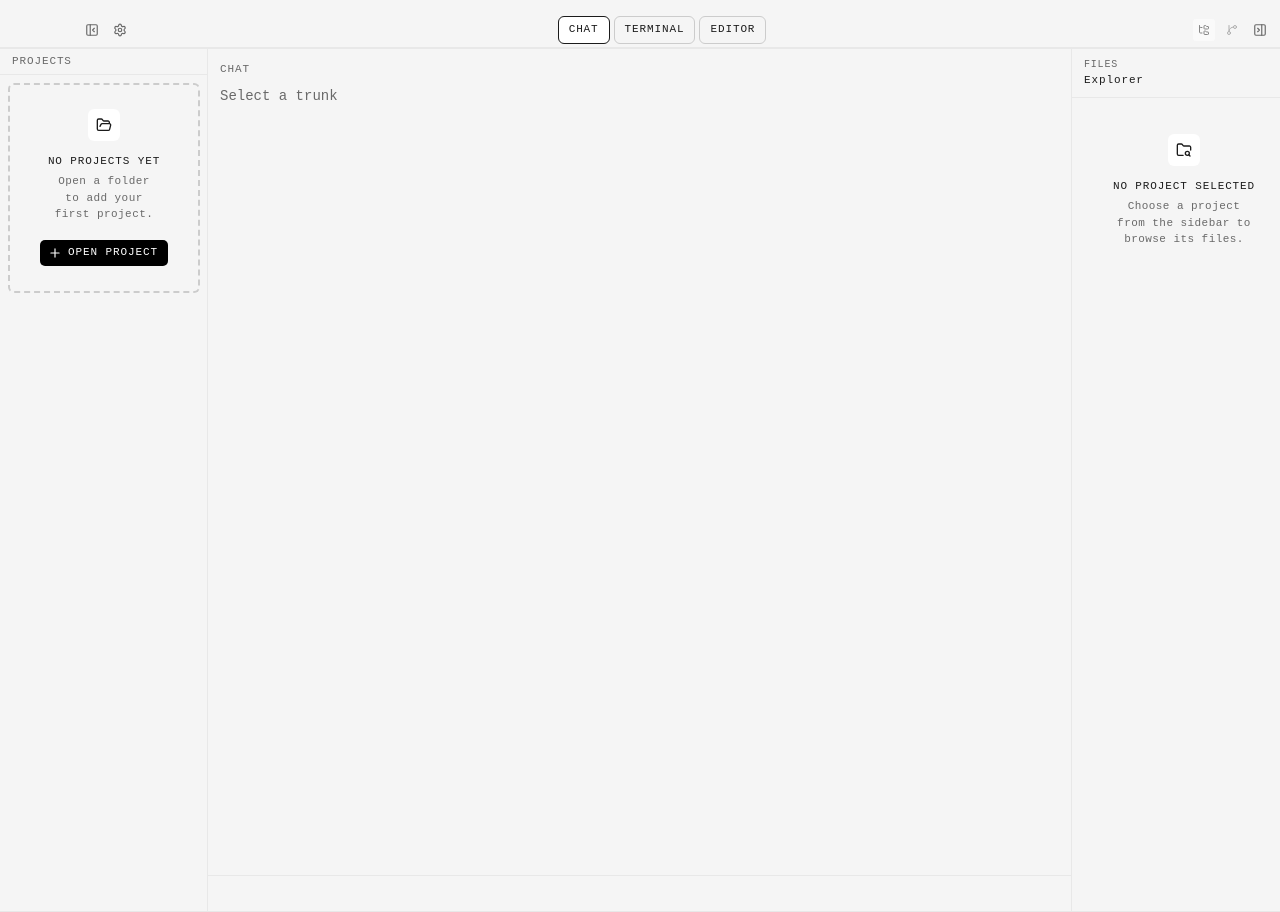
Scenario: ShellScreen › keeps inactive main cards mounted while swapping
The width and height of the screenshot is (1280, 912).
Click the tab "Terminal" at (655, 30), box [614,16,696,44]
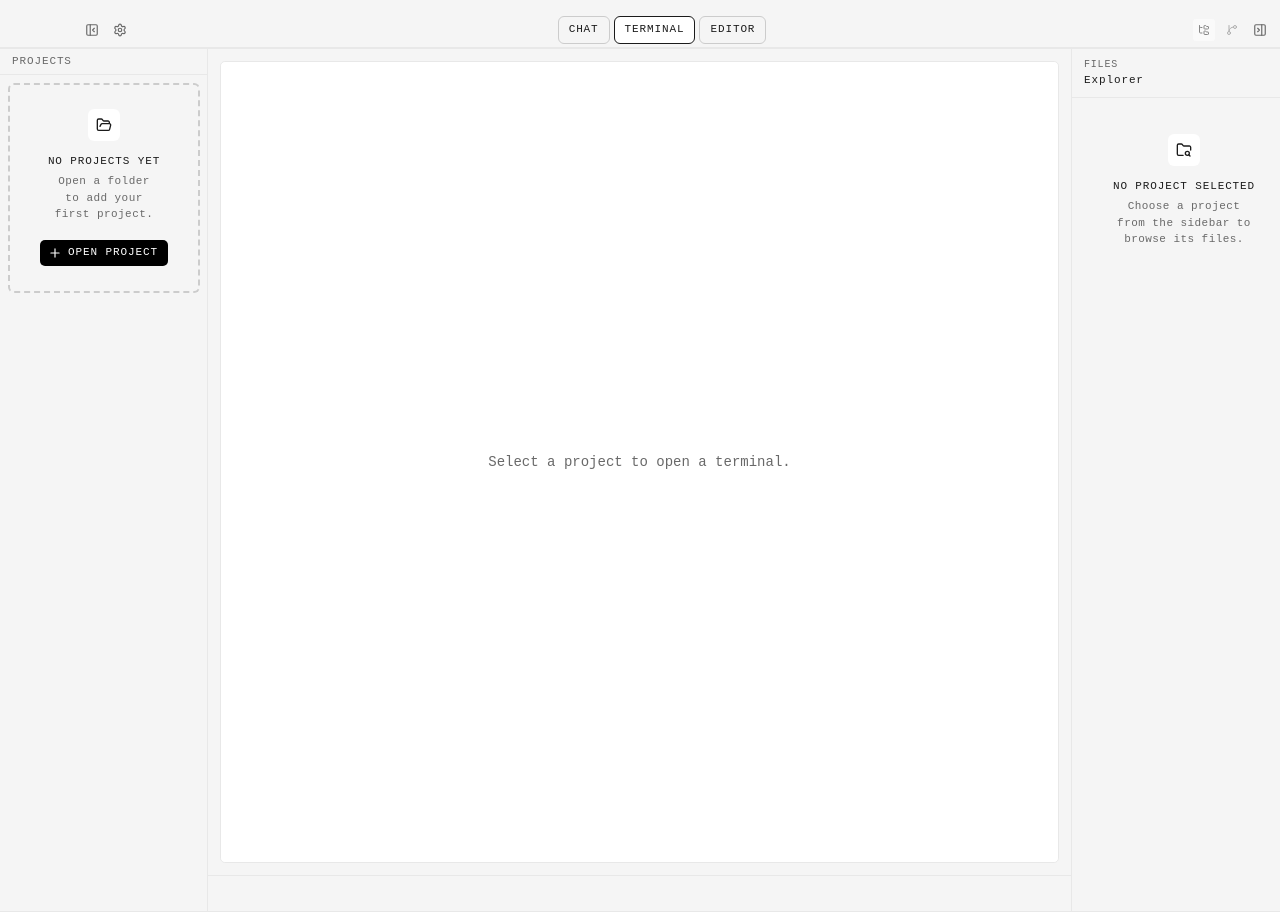
Click the tab "Editor" at (733, 30), box [700,16,766,44]
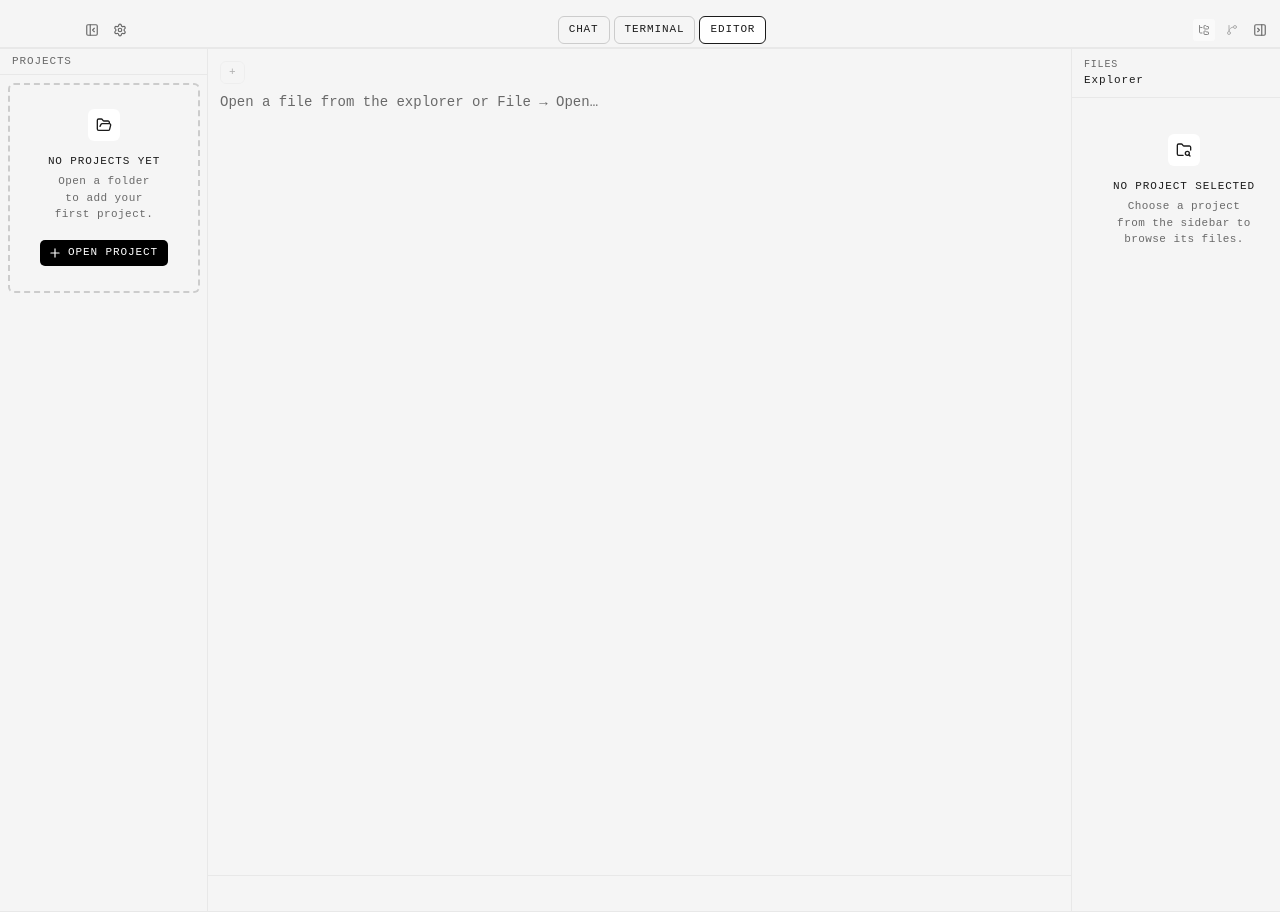
Click the tab "Terminal" at (655, 30), box [614,16,696,44]
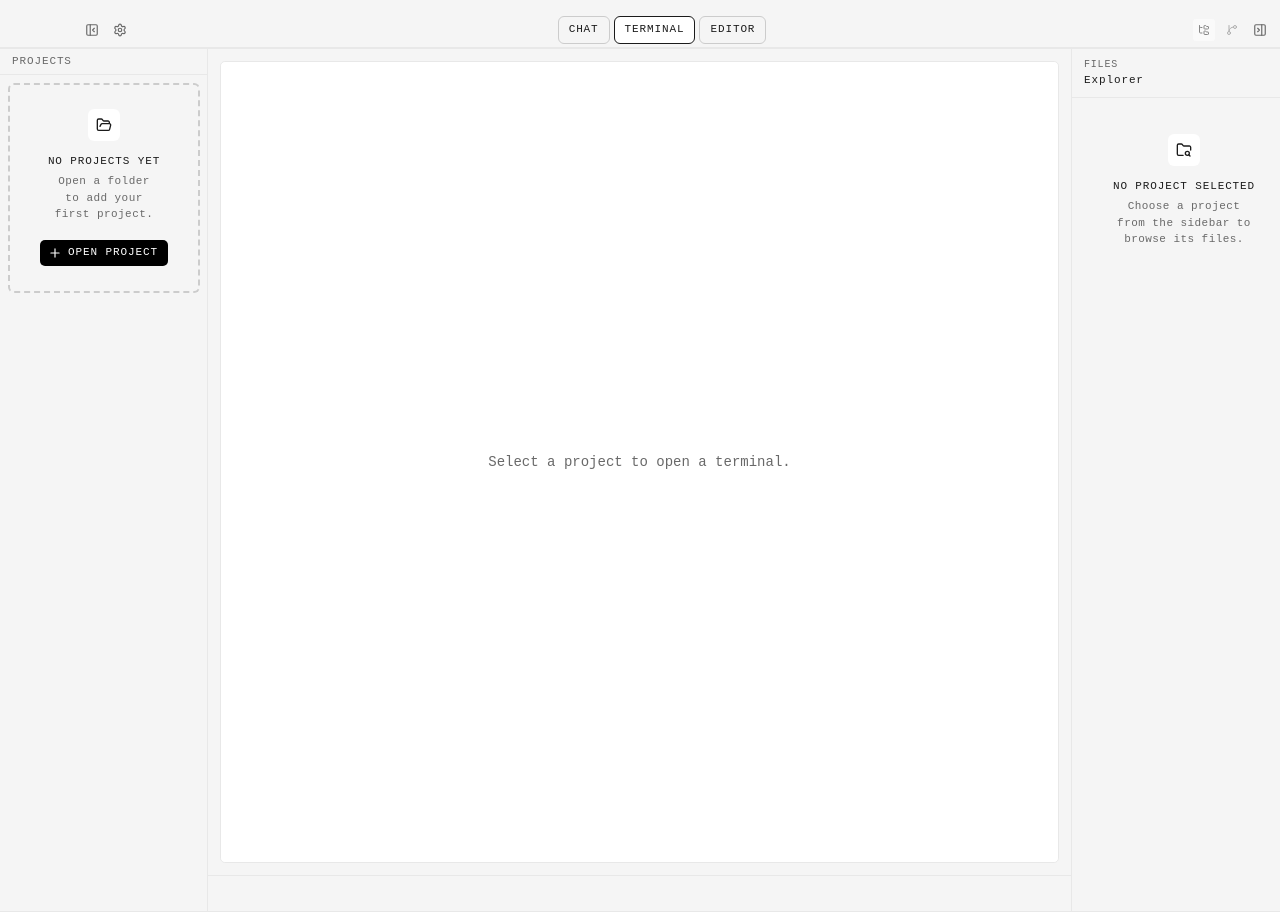
Now the text "Select a project to open a terminal." is shown, box [488,452,791,472]
